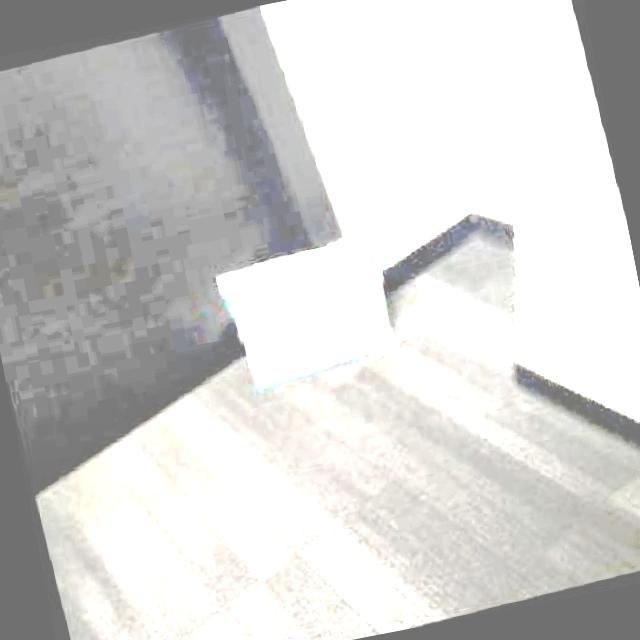Box: (144, 274, 264, 372), (302, 291, 424, 376), (278, 236, 388, 327), (568, 248, 640, 358), (546, 130, 622, 210), (574, 197, 635, 273)
